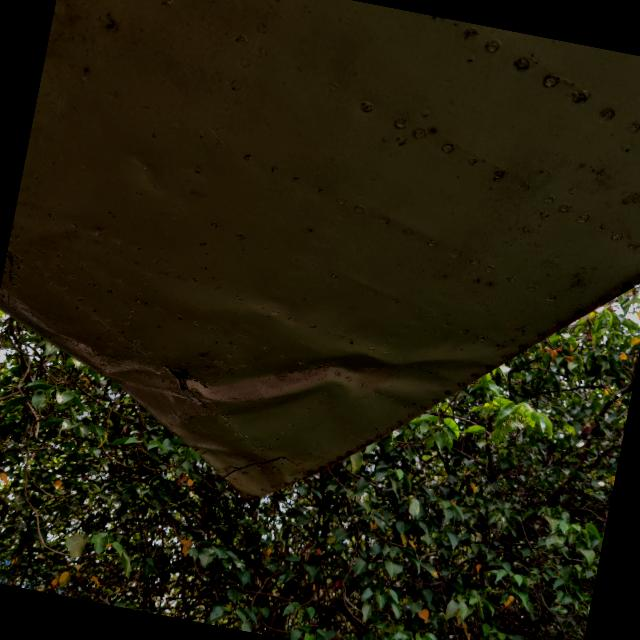dent: (180, 279, 510, 471), (1, 294, 176, 399), (175, 424, 314, 509)
